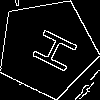H: (22, 22, 79, 75)
